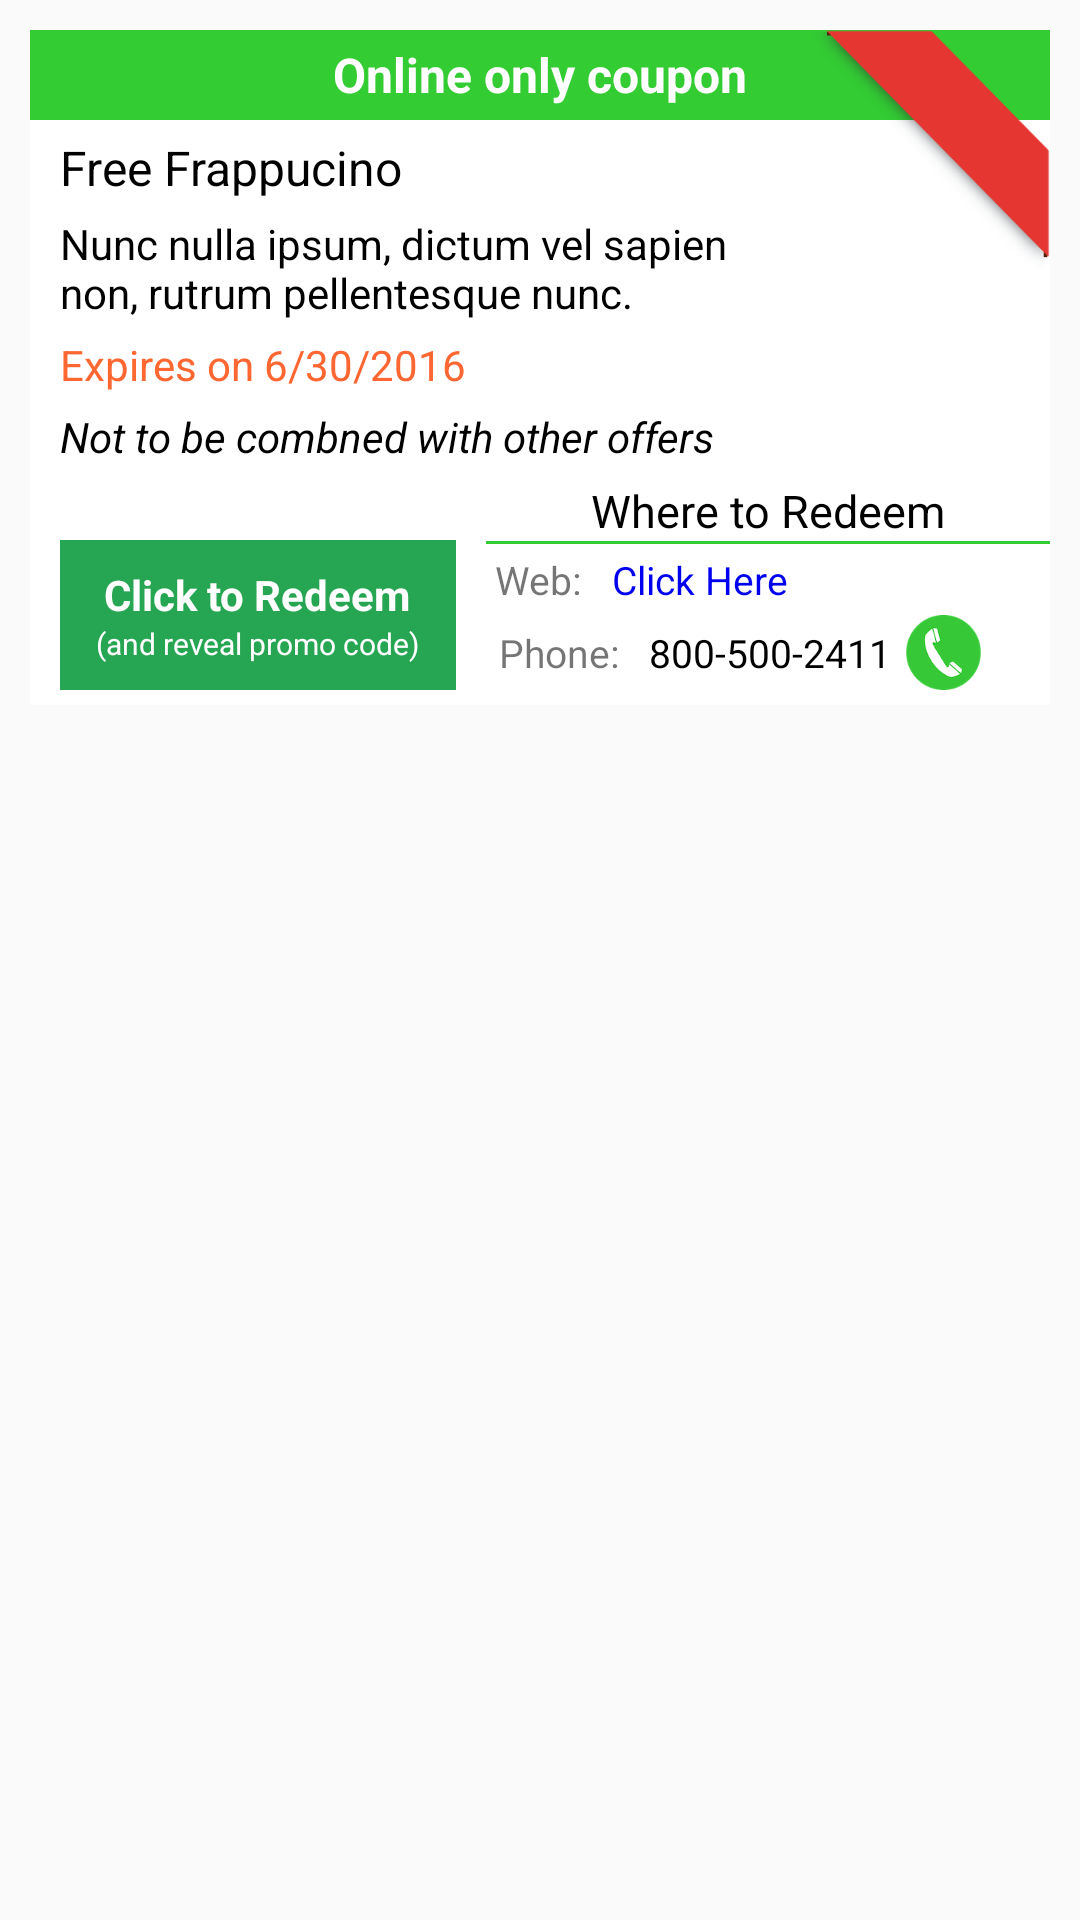

Point at icon controls on the screen. Image size 1080w x 1920h, points as [x,y].
call: [943,652]
expiredexpiring soon ribbon: [930,144]
